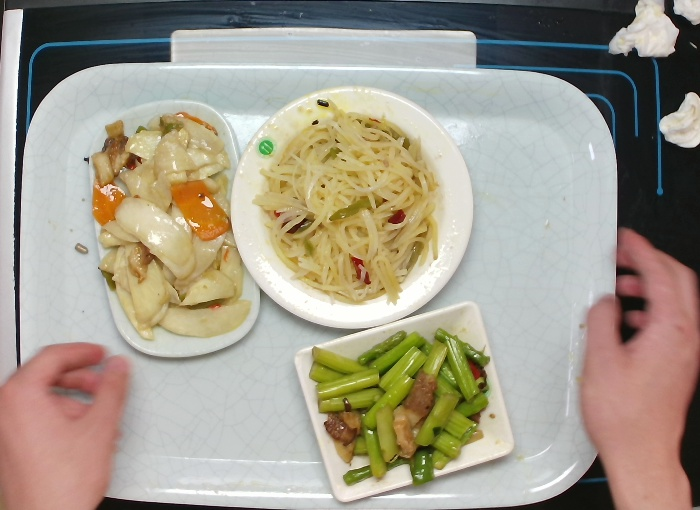WCQzf-Bai_Se_Si_Fang_Die: (288, 296, 519, 507)
WCQzf-Kuan_Bian_Yuan_Die: (229, 82, 474, 328)
WCQzf-Tuo_Yuan_Pan: (81, 93, 265, 371)
